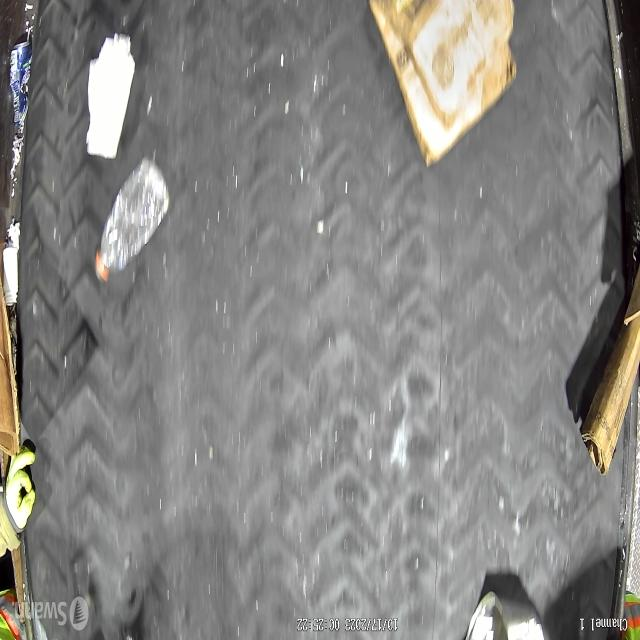can: (10, 41, 32, 129)
plastic_bottle: (91, 157, 170, 284)
